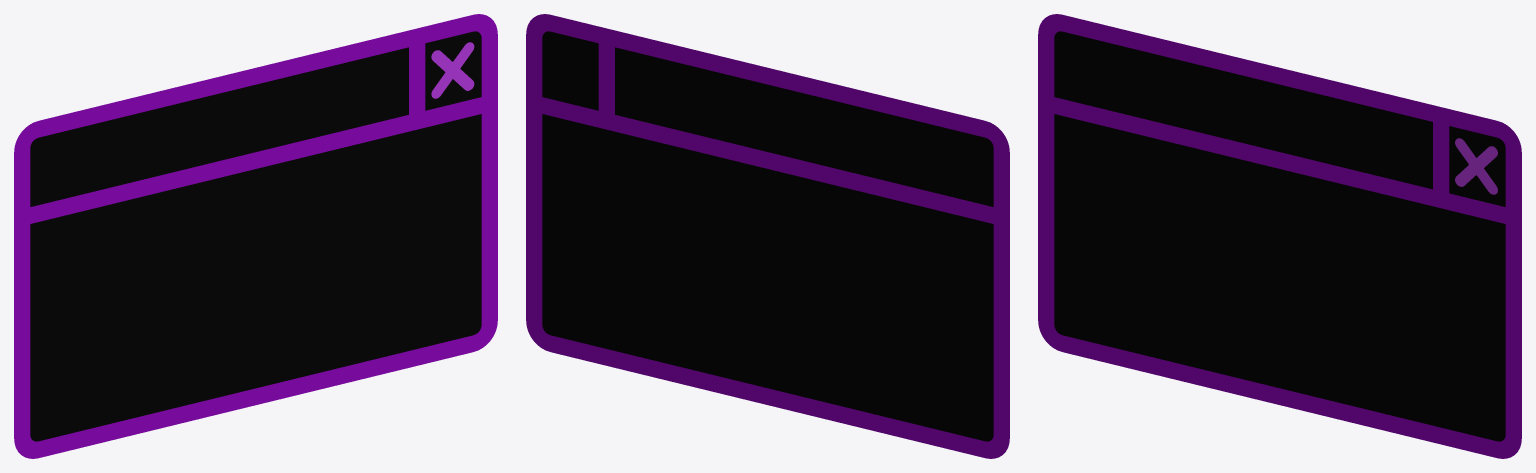
The model's file is Malware.fbx.
The picture shows the model from 3 angles, left to right: view 1: azimuth 30°, elevation 25°; view 2: azimuth 150°, elevation 25°; view 3: azimuth 330°, elevation 25°; orthographic projection.
Visible parts, largest first — view 1: MALWARE,PHISHING; view 2: MALWARE,PHISHING; view 3: MALWARE,PHISHING.
Part boxes in pixels (box(x1,y1,x2,y2)): MALWARE,PHISHING: box(14, 14, 497, 458); MALWARE,PHISHING: box(526, 14, 1009, 458); MALWARE,PHISHING: box(1038, 14, 1521, 458).
Size of the model in its own units: 150 by 100 by 0.1.
Materials: 1 (1 with a texture image).
